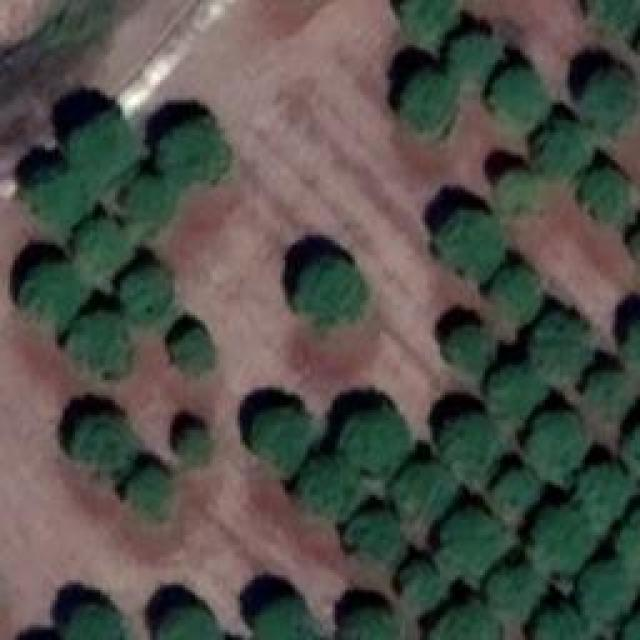Tree: (65, 118, 140, 191), (440, 513, 513, 586), (435, 210, 503, 275), (340, 408, 408, 473), (18, 265, 88, 325), (157, 120, 225, 180), (443, 417, 503, 485), (70, 313, 128, 378), (527, 408, 585, 473), (395, 465, 453, 528), (533, 510, 596, 568), (28, 173, 88, 233), (298, 260, 363, 315), (490, 70, 548, 130), (303, 460, 363, 518), (533, 313, 588, 376), (72, 415, 130, 473), (252, 410, 310, 468), (578, 468, 631, 531), (403, 73, 458, 133), (540, 122, 593, 180), (75, 220, 130, 275), (583, 73, 633, 133), (127, 175, 175, 233), (490, 365, 545, 415), (445, 325, 495, 380), (583, 563, 633, 618), (123, 268, 173, 321), (488, 568, 541, 618), (400, 0, 450, 50), (492, 270, 540, 320), (350, 512, 400, 560), (255, 597, 310, 640), (130, 468, 173, 521), (588, 370, 631, 423), (583, 170, 626, 223), (65, 605, 130, 640), (493, 470, 538, 520), (430, 607, 497, 640), (450, 35, 498, 80), (403, 563, 448, 608), (173, 327, 213, 375), (587, 0, 640, 35), (498, 170, 541, 213), (344, 607, 397, 640), (160, 610, 218, 640), (540, 610, 590, 640), (622, 508, 640, 581), (180, 430, 213, 463), (625, 318, 640, 381)
